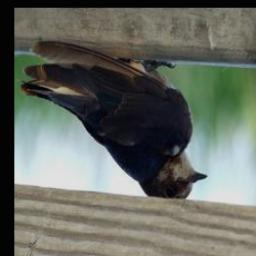Swallow: (19, 40, 208, 201)
